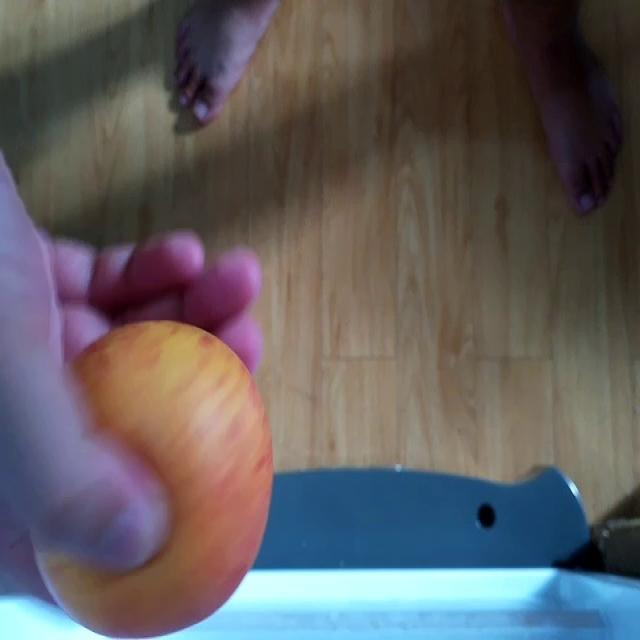apple: (30, 324, 272, 636)
